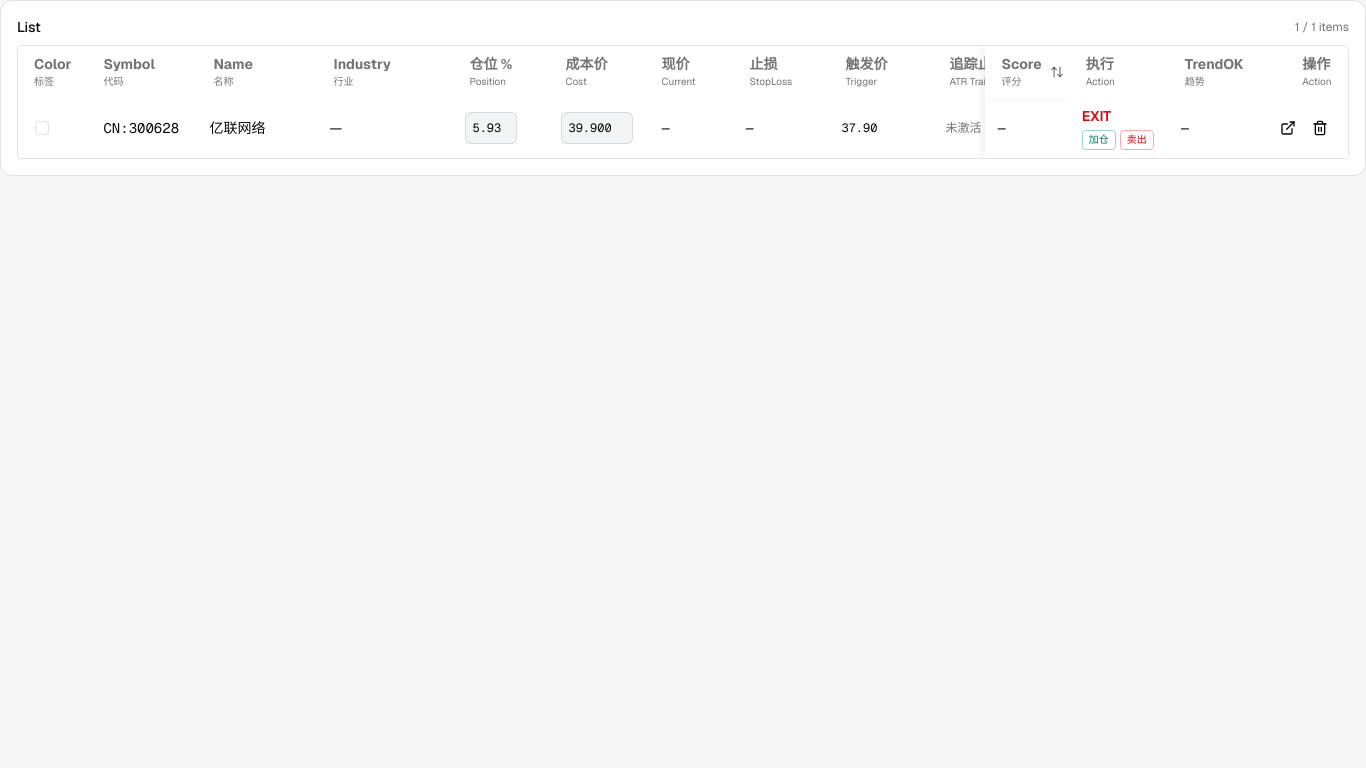
Scenario: repro: add-trade modal updates the row › click 加仓 -> enter pct -> confirm -> row positionPct updates even when the trade journal fails
Expected: the button "CN:300628" is shown, [100,116,183,140]
Click the button "加仓": (1099, 140) [1082,130,1116,150]
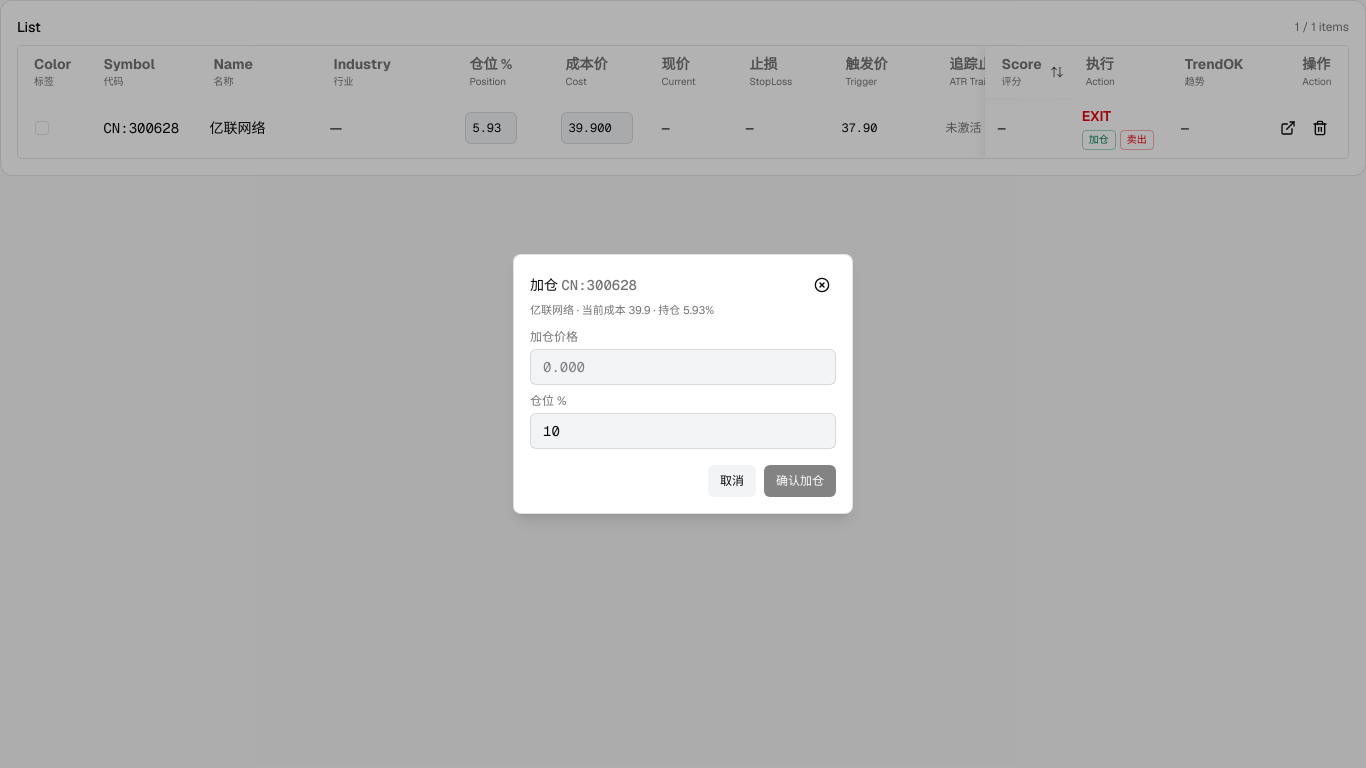
Result: the button "确认加仓" is shown at [764,465,836,497]
Replace the text in the field with placeholder "0" with "5": (683, 431) [530,413,836,449]
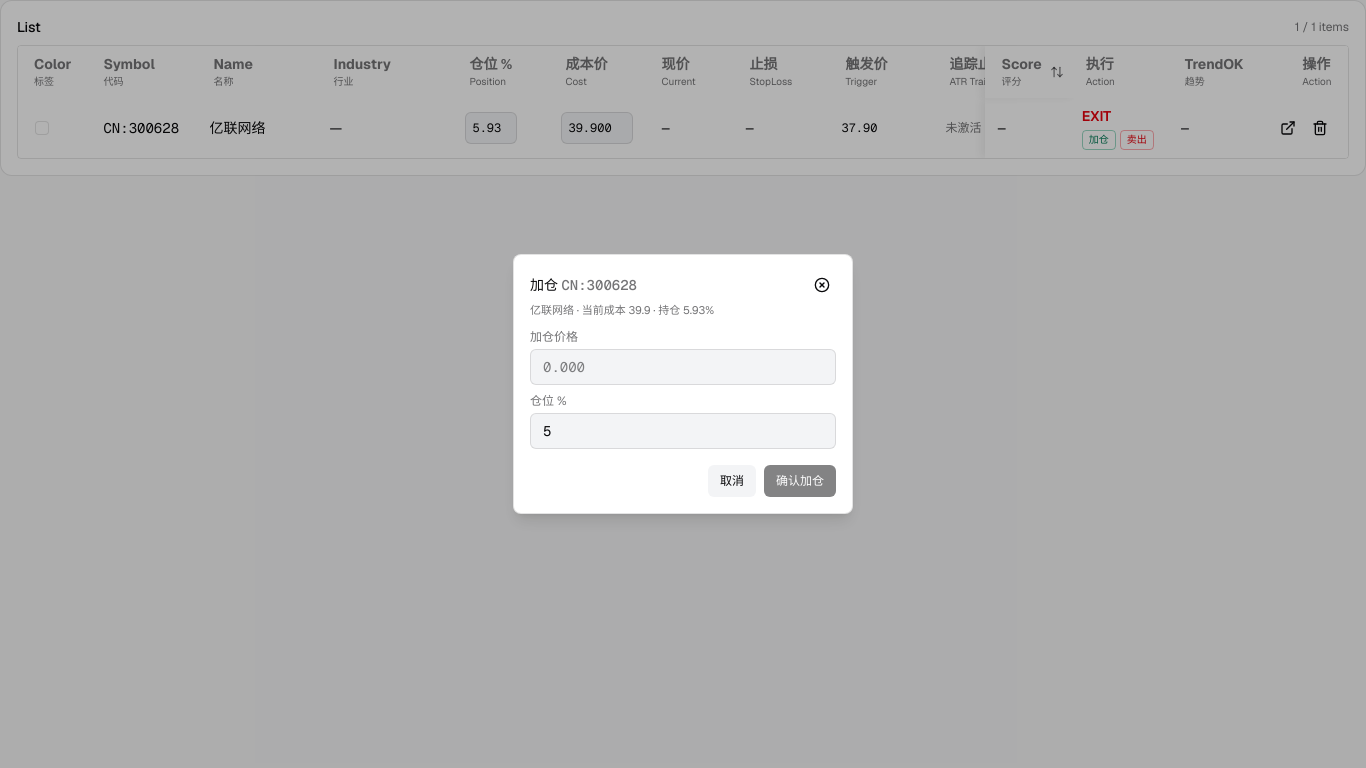
In the field with placeholder "0.000": (683, 367) [530,349,836,385], type "42.4"
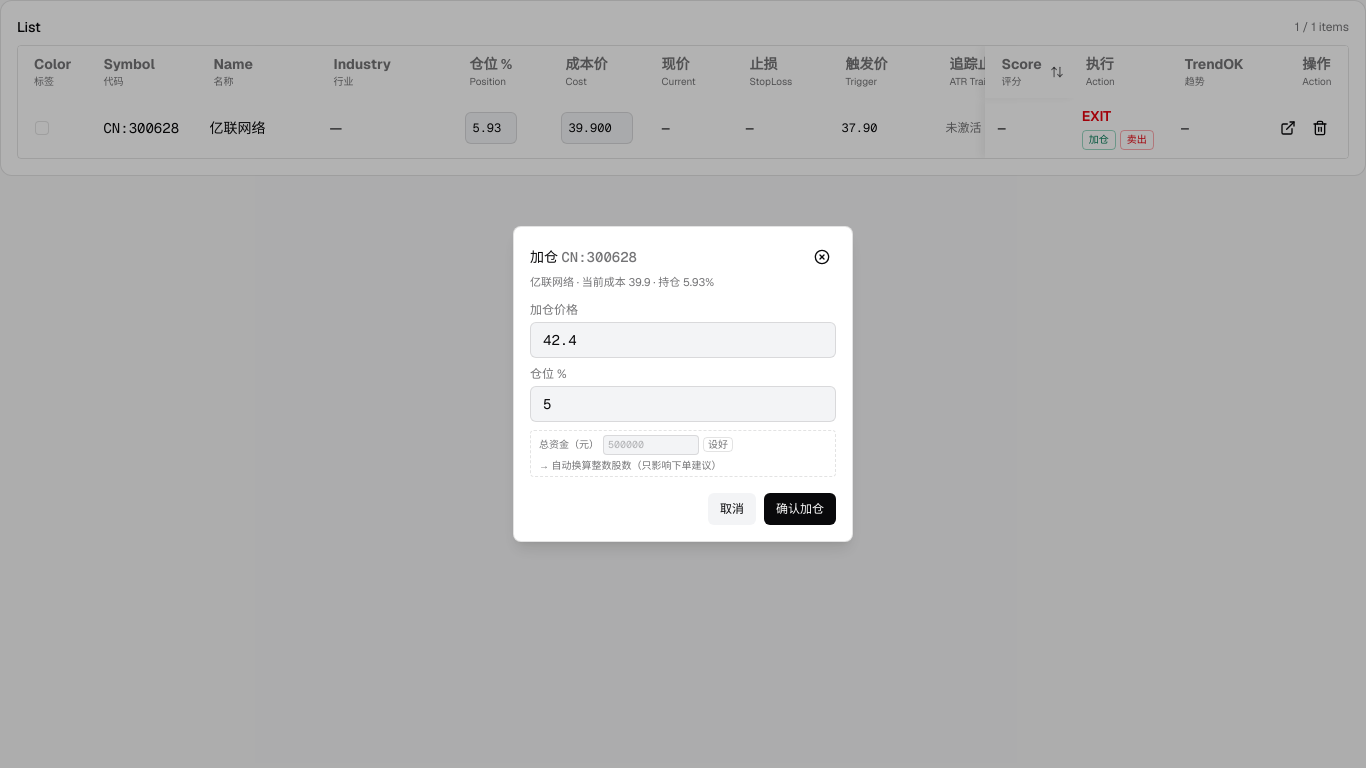
Click the button "确认加仓": (800, 509) [764,493,836,525]
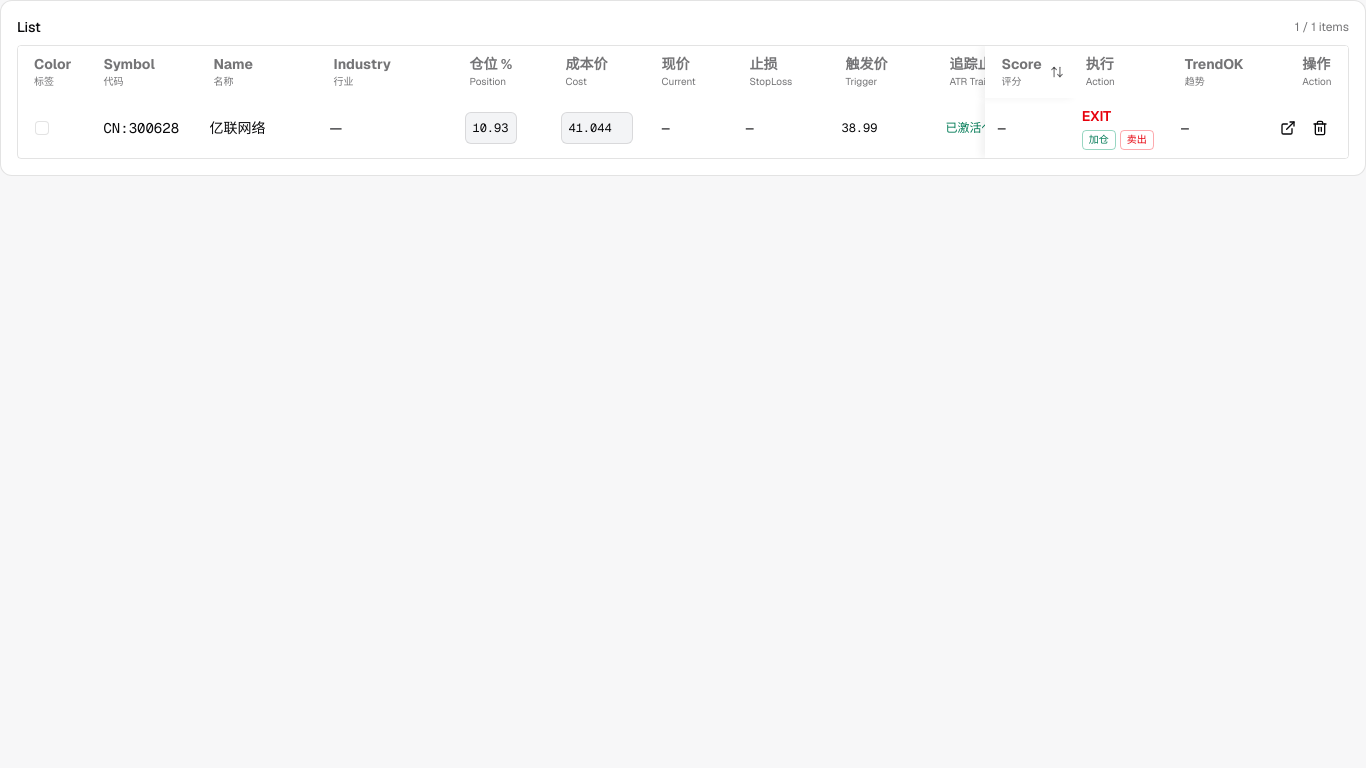
Result: the 1st field showing "10.93" is shown at [466,112,518,144]
